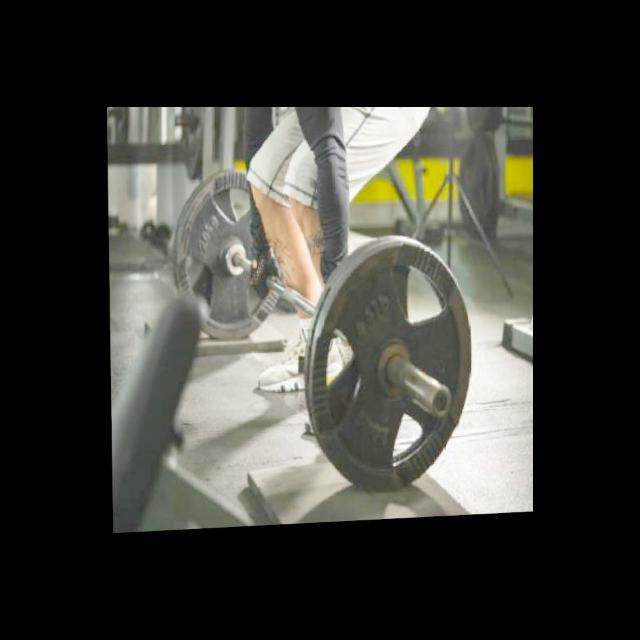barbell: (297, 236, 481, 498)
